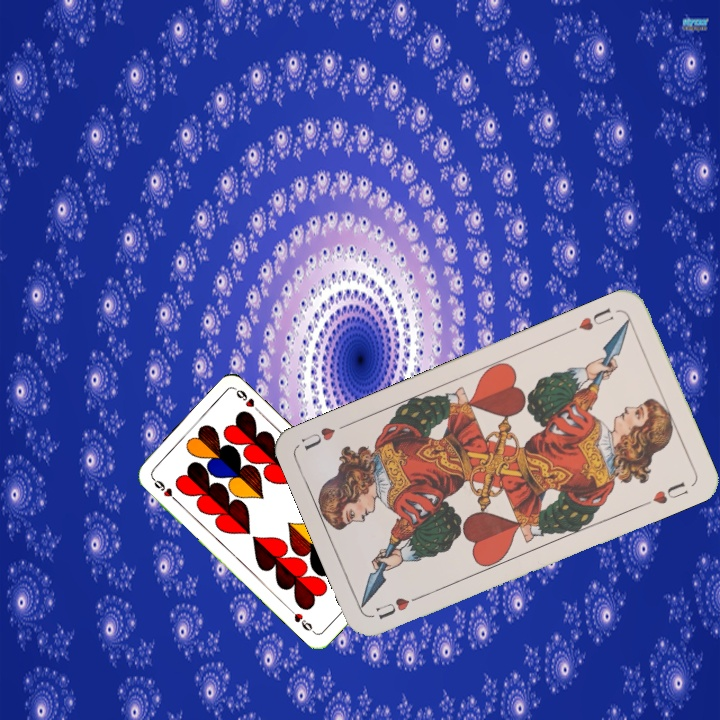H9: (148, 474, 181, 505)
HU: (372, 590, 426, 622), (574, 304, 616, 334)
